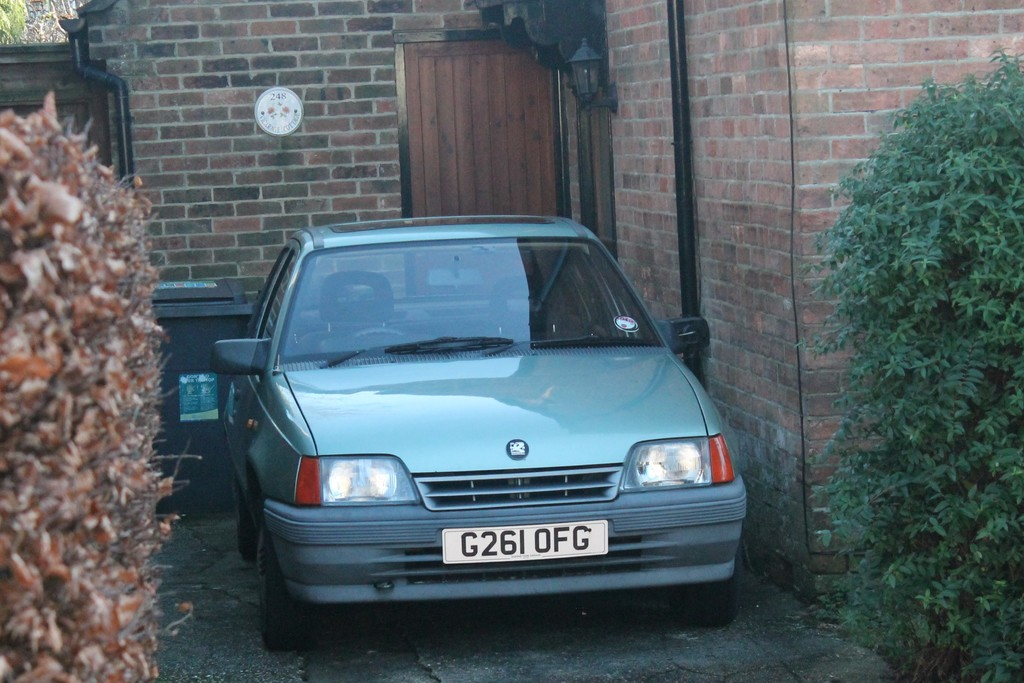mobil: (216, 197, 756, 633)
